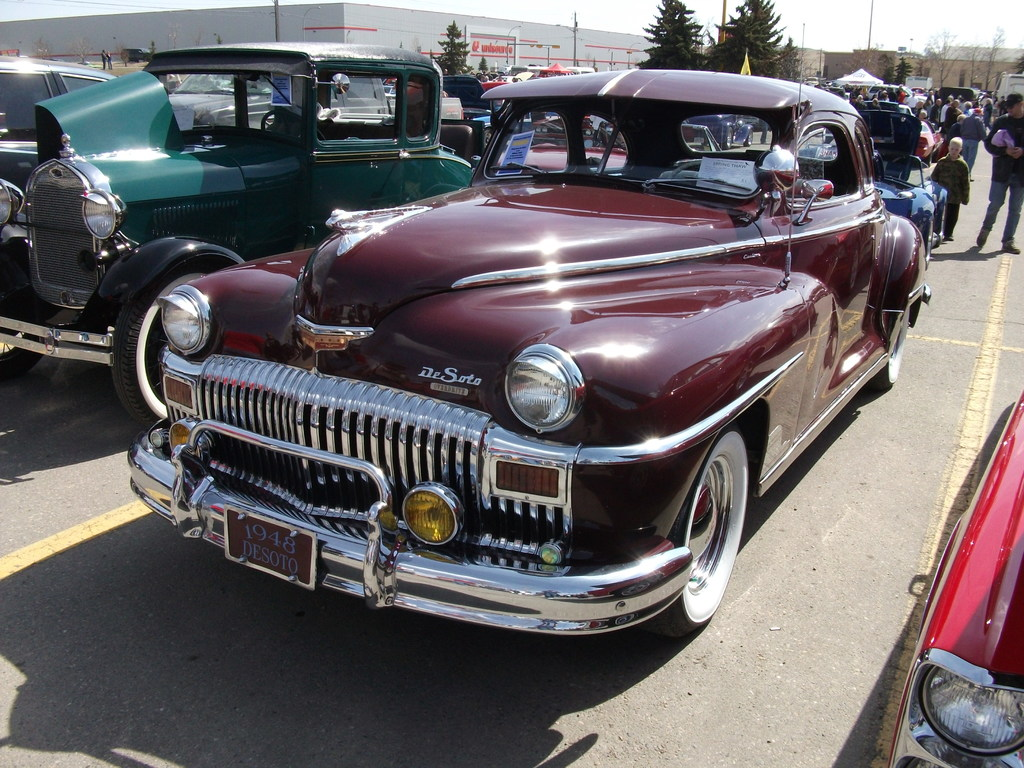cars: (128, 90, 916, 664), (0, 42, 475, 429), (163, 61, 1023, 267), (876, 383, 1022, 767), (0, 55, 115, 170), (122, 46, 152, 60)
